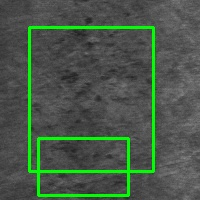rolled-in_scale: (29, 27, 153, 171), (38, 138, 128, 195)
